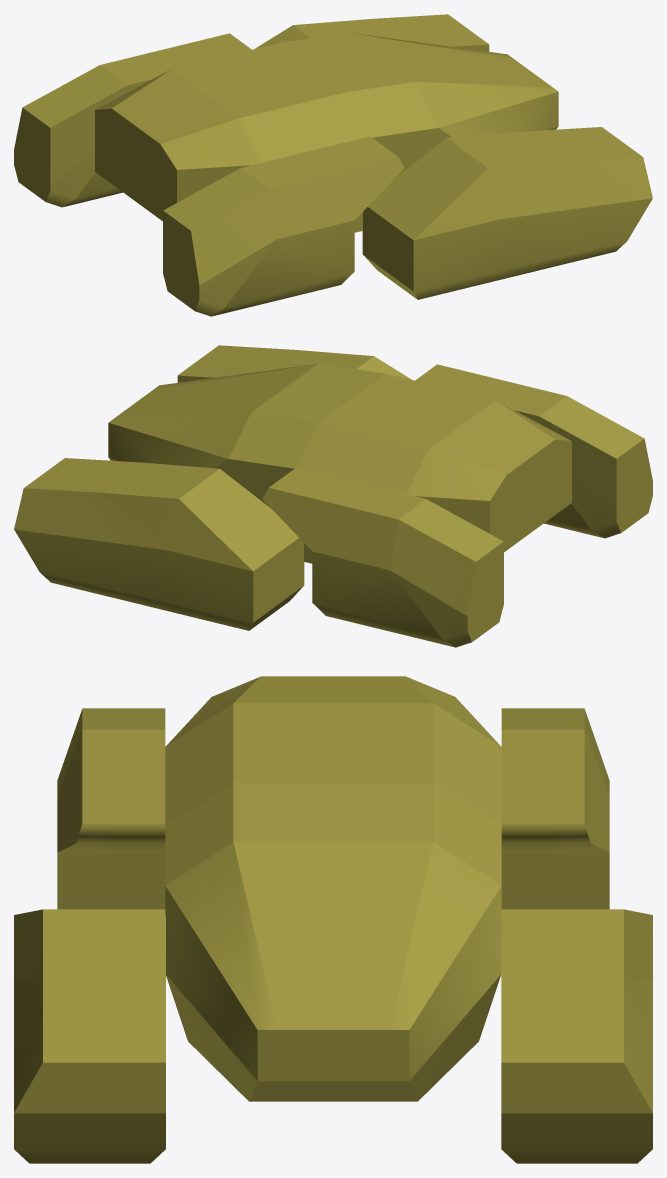
Rendered from playerTank04.fbx.
The picture shows the model from 3 angles, top to bottom: view 1: azimuth 30°, elevation 25°; view 2: azimuth 150°, elevation 25°; view 3: azimuth 270°, elevation 25°; orthographic projection. The views are drawn at different scales.
Parts seen in each view (by area): view 1: playerTank3; view 2: playerTank3; view 3: playerTank3.
Boxes of the visible parts, <box> form: playerTank3: <box>14,14,652,316</box>; playerTank3: <box>14,345,652,647</box>; playerTank3: <box>14,676,652,1163</box>.
Size of the model in its own units: 173 by 59.61 by 146.
